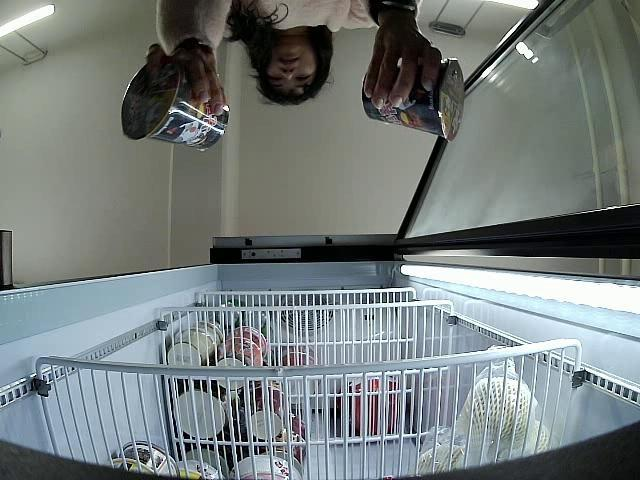08_buldak_S: (119, 54, 228, 153), (364, 59, 466, 142)
